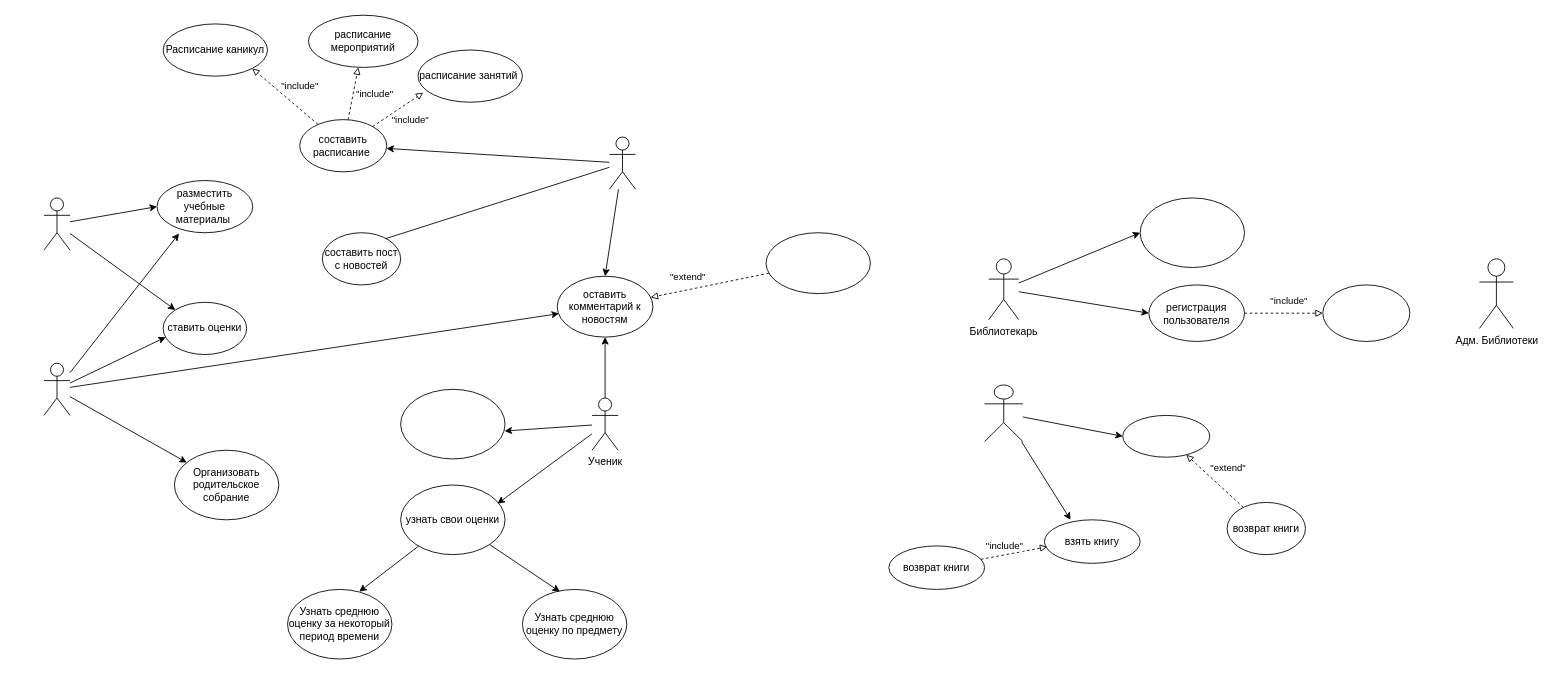
Some shapes in this 1553 by 674 pixel diagram are drawn without their labels. Here are the shapes that lost their labels. From the top down, the centre of each, then its label:
At (622,162): "Зам Директора".
At (56,223): "Учитель".
At (1192,232): "поиск книги".
At (817,263): "Прикрепление файла к комментарию".
At (1366,312): "выдачи книги".
At (56,388): "Кл. руководитель".
At (452,423): "узнать расписание".
At (1003,413): "Читатель".
At (1166,436): "купить книгу".
